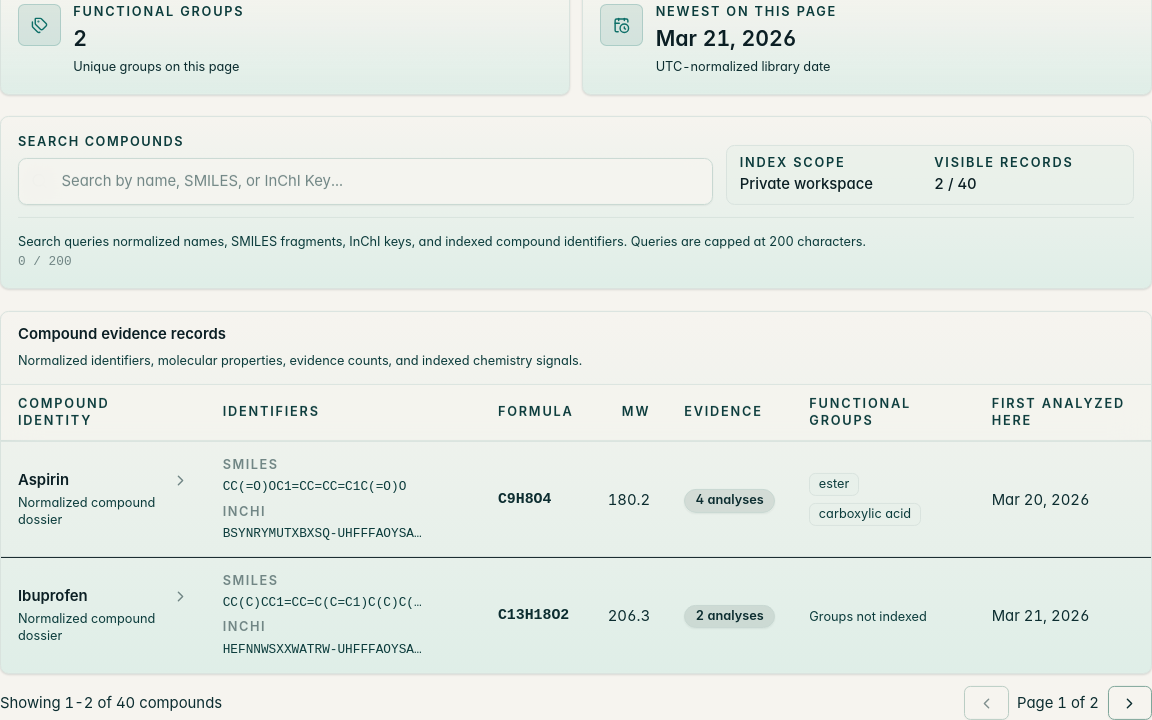
Scenario: CompoundsPage › keeps controls mounted during an uncached page fetch
This screenshot has width=1152, height=720.
(page scrolled)
Click the button named "Next compounds page" at [1130, 703], box [1108,686,1151,719]
(page scrolled)
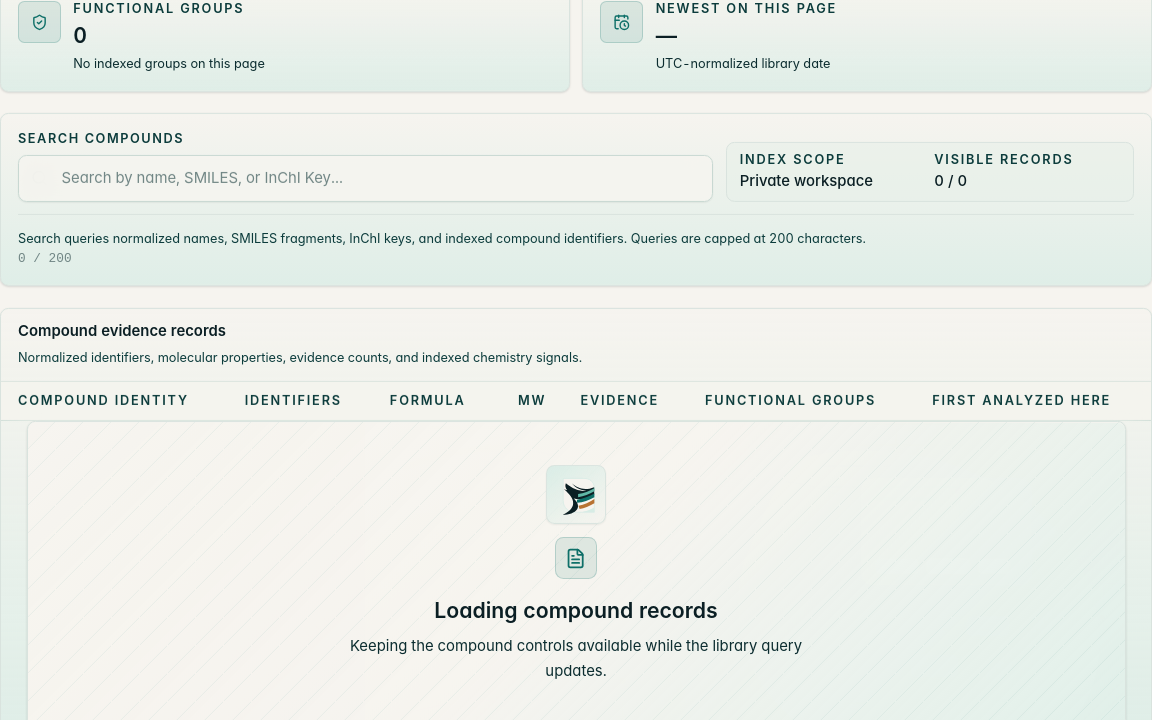
expect the field labelled "Search compounds" is shown: met, box [18,153,713,199]
expect the heading "Loading compound records" is shown: met, box [434,595,718,621]
